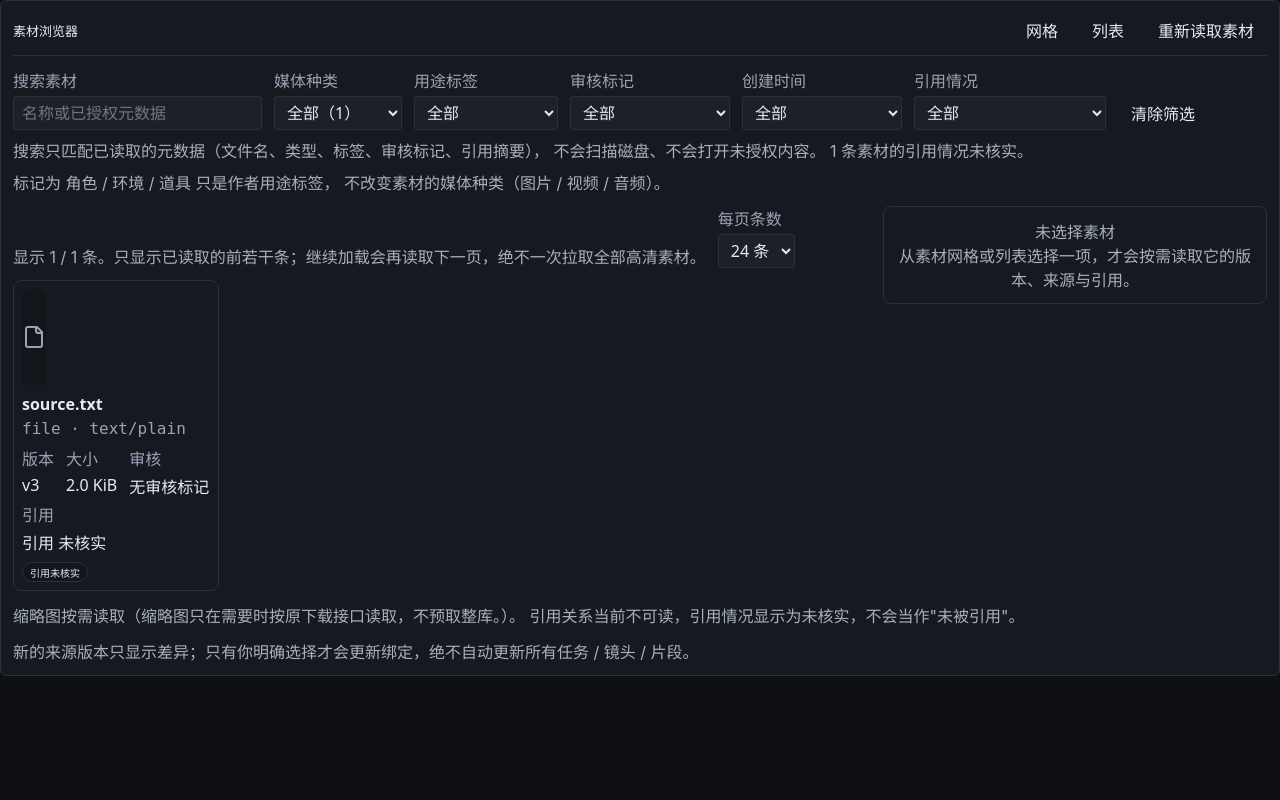
Scenario: shows provider and model only from the existing on-demand owner detail, with no extra read or mutation
Click the button with aria-label "选择素材 source.txt": click(116, 436) [13, 280, 218, 591]
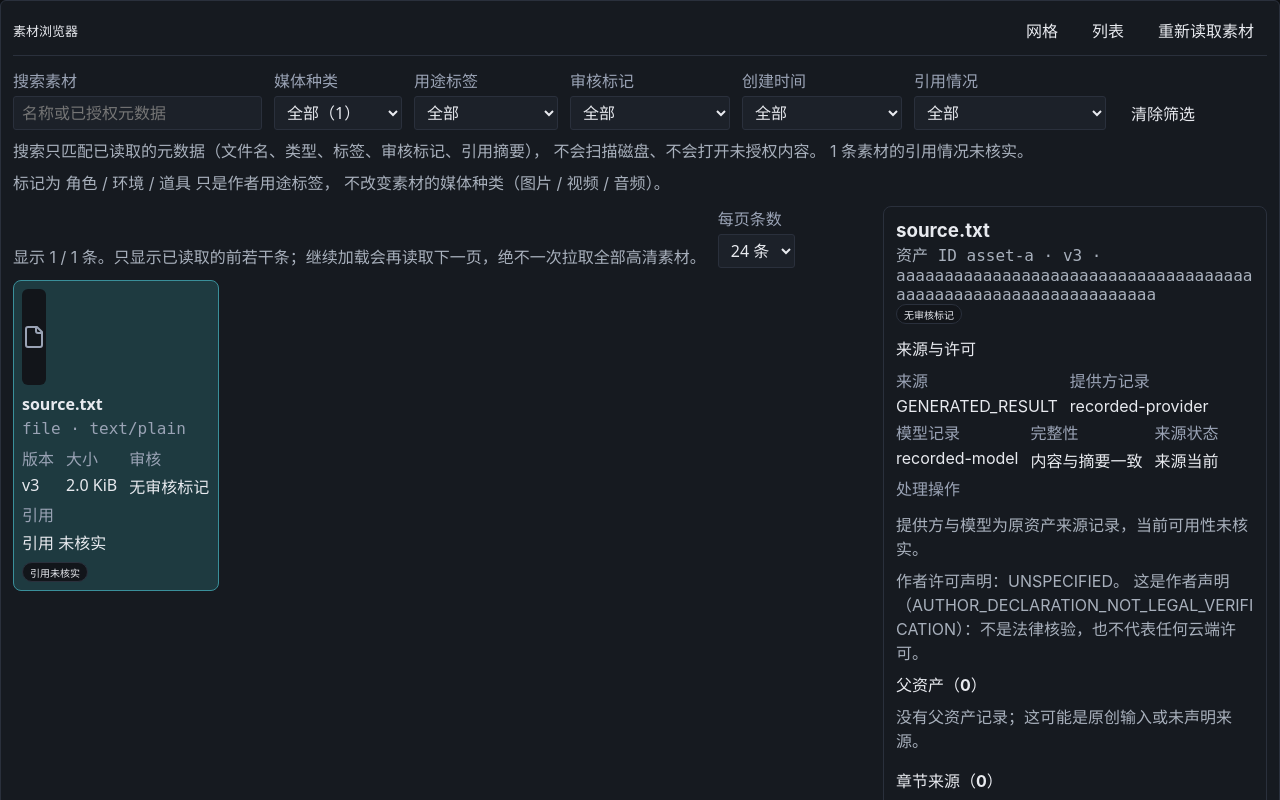
Expected: the text "recorded-provider" is shown, [1070, 396, 1208, 416]
Expected: the text "recorded-model" is shown, [896, 448, 1018, 468]
